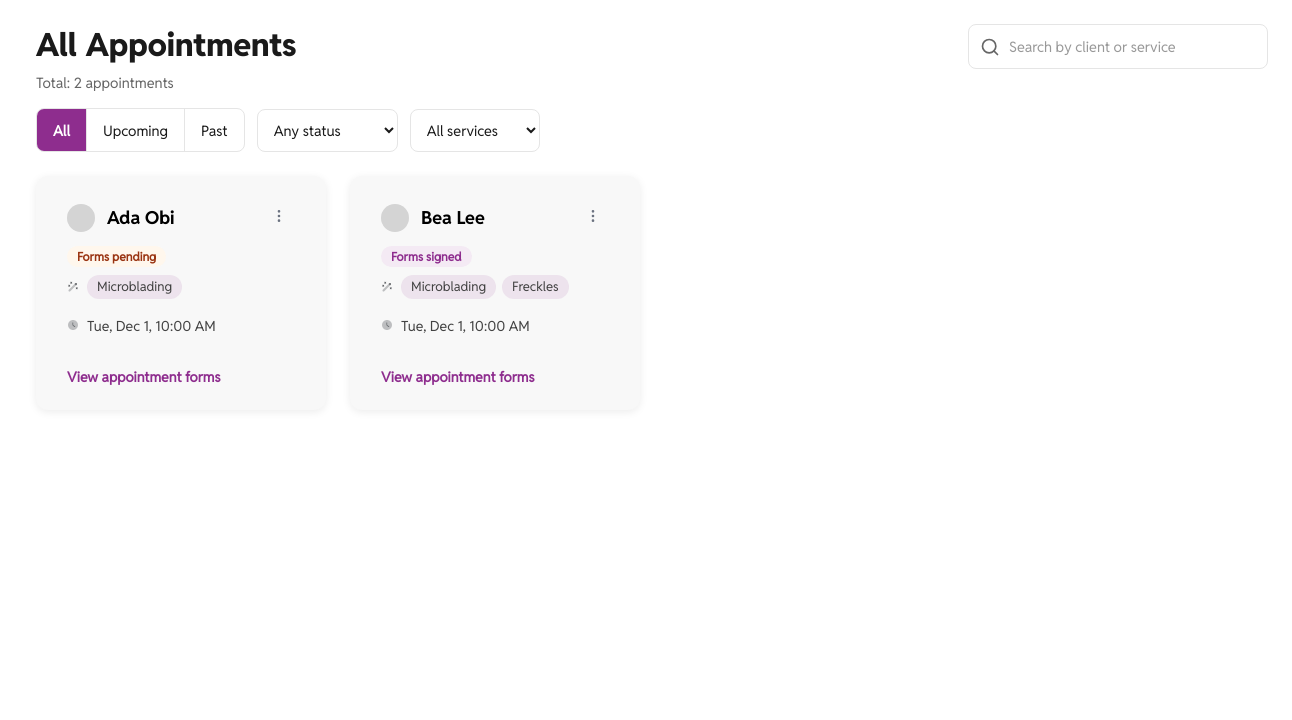
Scenario: Appointments page › searches by client or service on the server, keeping the box focused
Expected: the heading "Ada Obi" is shown, [107, 207, 174, 229]
Type "freck" into the search field labelled "Search by client or service".
click(1118, 46); type("freck")  # box [968, 24, 1268, 69]
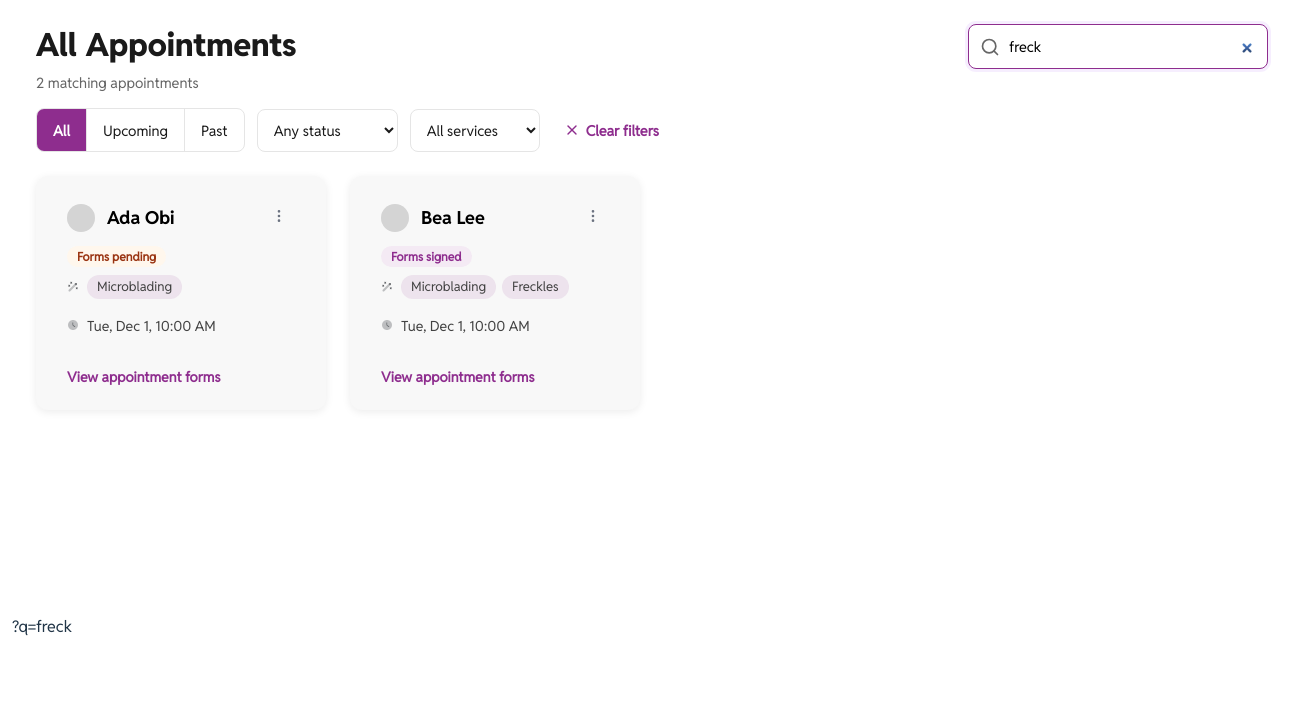
Expected: the text with test id "where" shows "q=freck", [12, 616, 72, 637]
